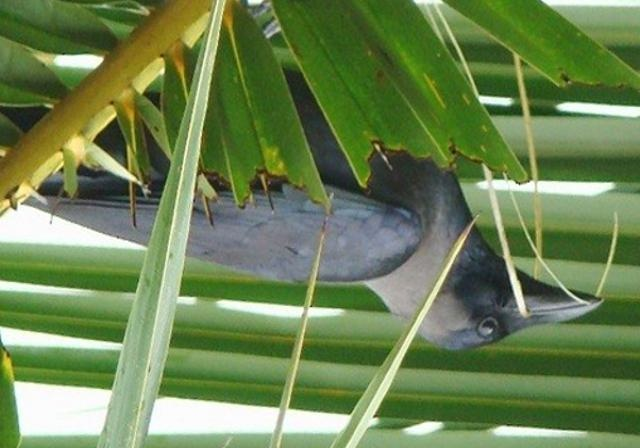crow: (30, 68, 598, 357)
